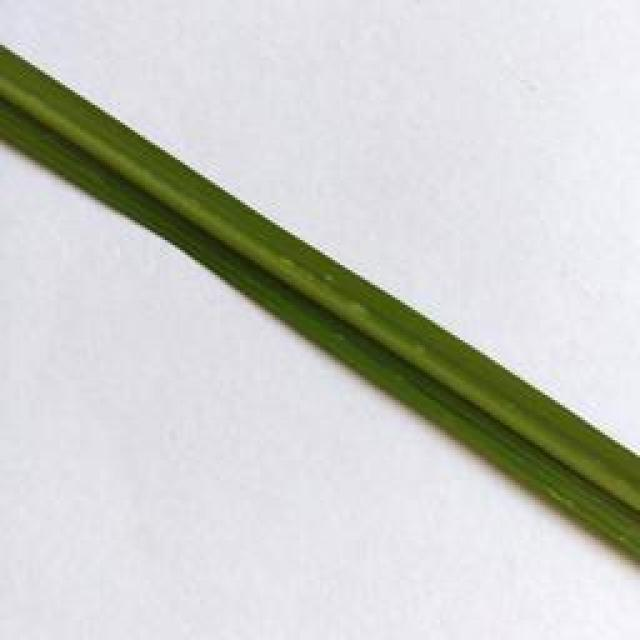Bacterial_Blight: (0, 40, 640, 562)
